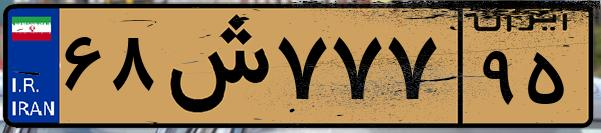5: (525, 38, 570, 115)
6: (57, 26, 110, 100)
7: (270, 28, 330, 110), (385, 28, 445, 110), (330, 28, 385, 110)
8: (110, 28, 158, 98)
9: (475, 38, 525, 113)
ش: (158, 12, 270, 120)
